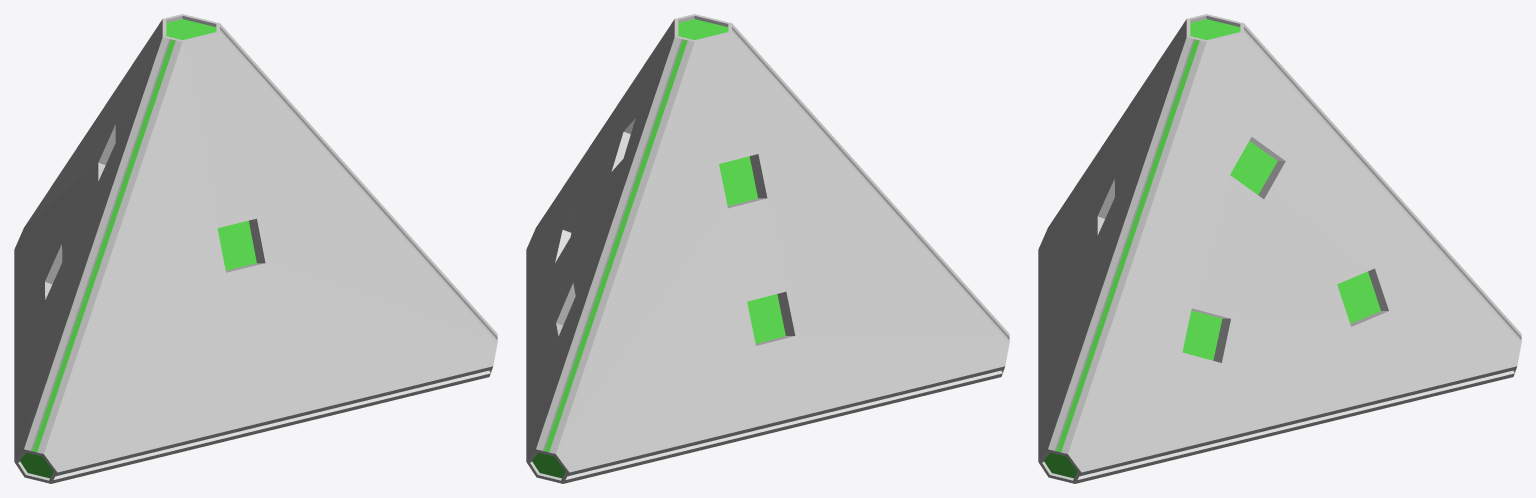
Rendered from Die4.fbx.
3 renders of one model, left to right at view 1: azimuth 30°, elevation 25°; view 2: azimuth 150°, elevation 25°; view 3: azimuth 270°, elevation 25°, orthographic.
Visible parts, largest first — view 1: Die4; view 2: Die4; view 3: Die4.
Part boxes in pixels (x1,y1,x2,y2): Die4: (14, 14, 497, 483); Die4: (526, 14, 1009, 483); Die4: (1038, 14, 1521, 483).
Bounding box in the file's own units: 304 × 265 × 207.
